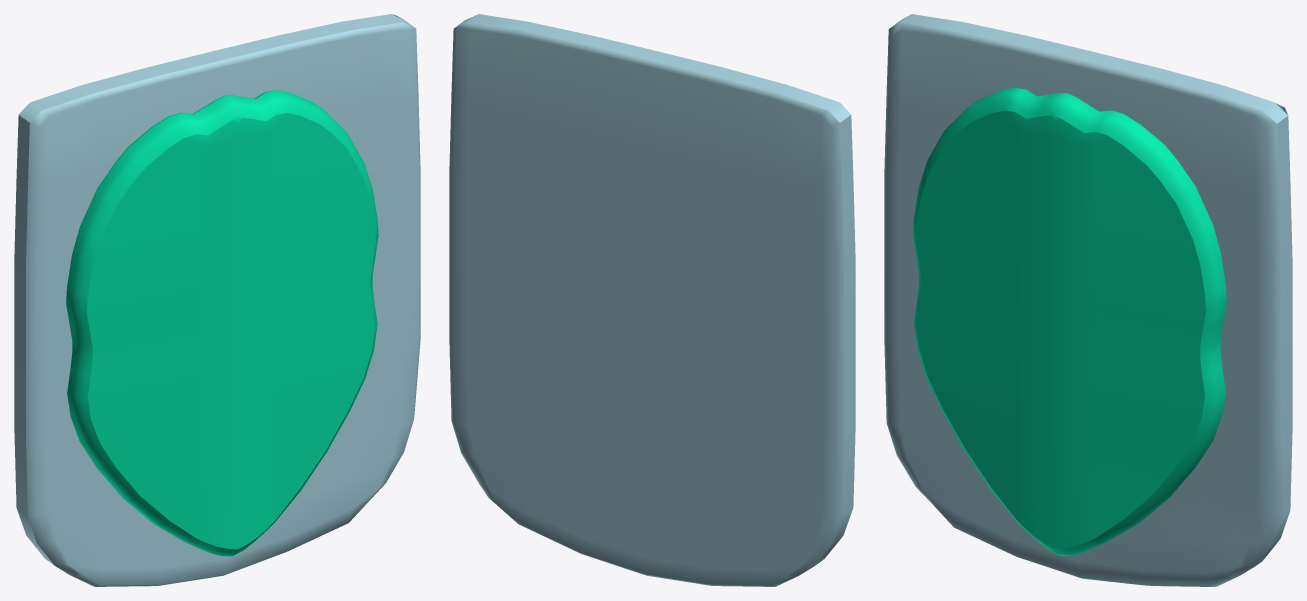
The model's file is Friday_Detectivebadge.fbx.
3 renders of one model, left to right at view 1: azimuth 30°, elevation 25°; view 2: azimuth 150°, elevation 25°; view 3: azimuth 330°, elevation 25°, orthographic.
Parts seen in each view (by area): view 1: pCube1, pCube2; view 2: pCube2; view 3: pCube1, pCube2.
Part boxes in pixels (x1,y1,x2,y2): pCube1: (66, 90, 378, 556); pCube2: (14, 14, 420, 586); pCube2: (449, 14, 855, 586); pCube1: (913, 87, 1226, 555); pCube2: (884, 14, 1292, 586).
Bounding box in the file's own units: 46.58 × 58.16 × 7.33.
